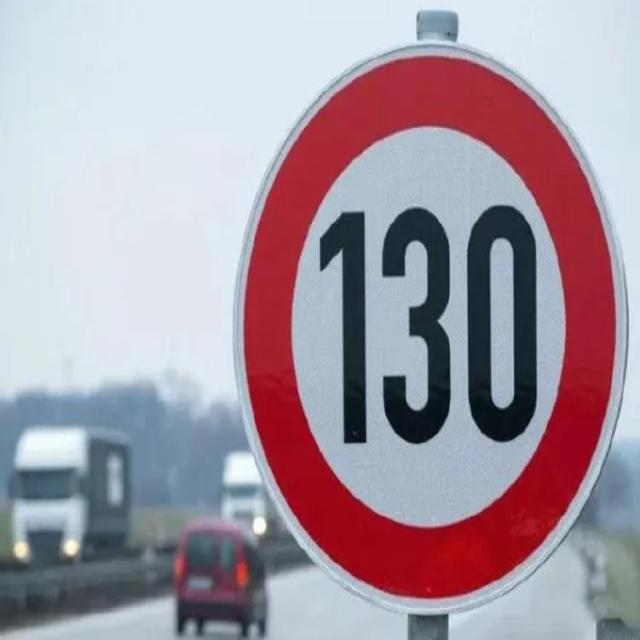speed limit 130: (234, 43, 629, 615)
